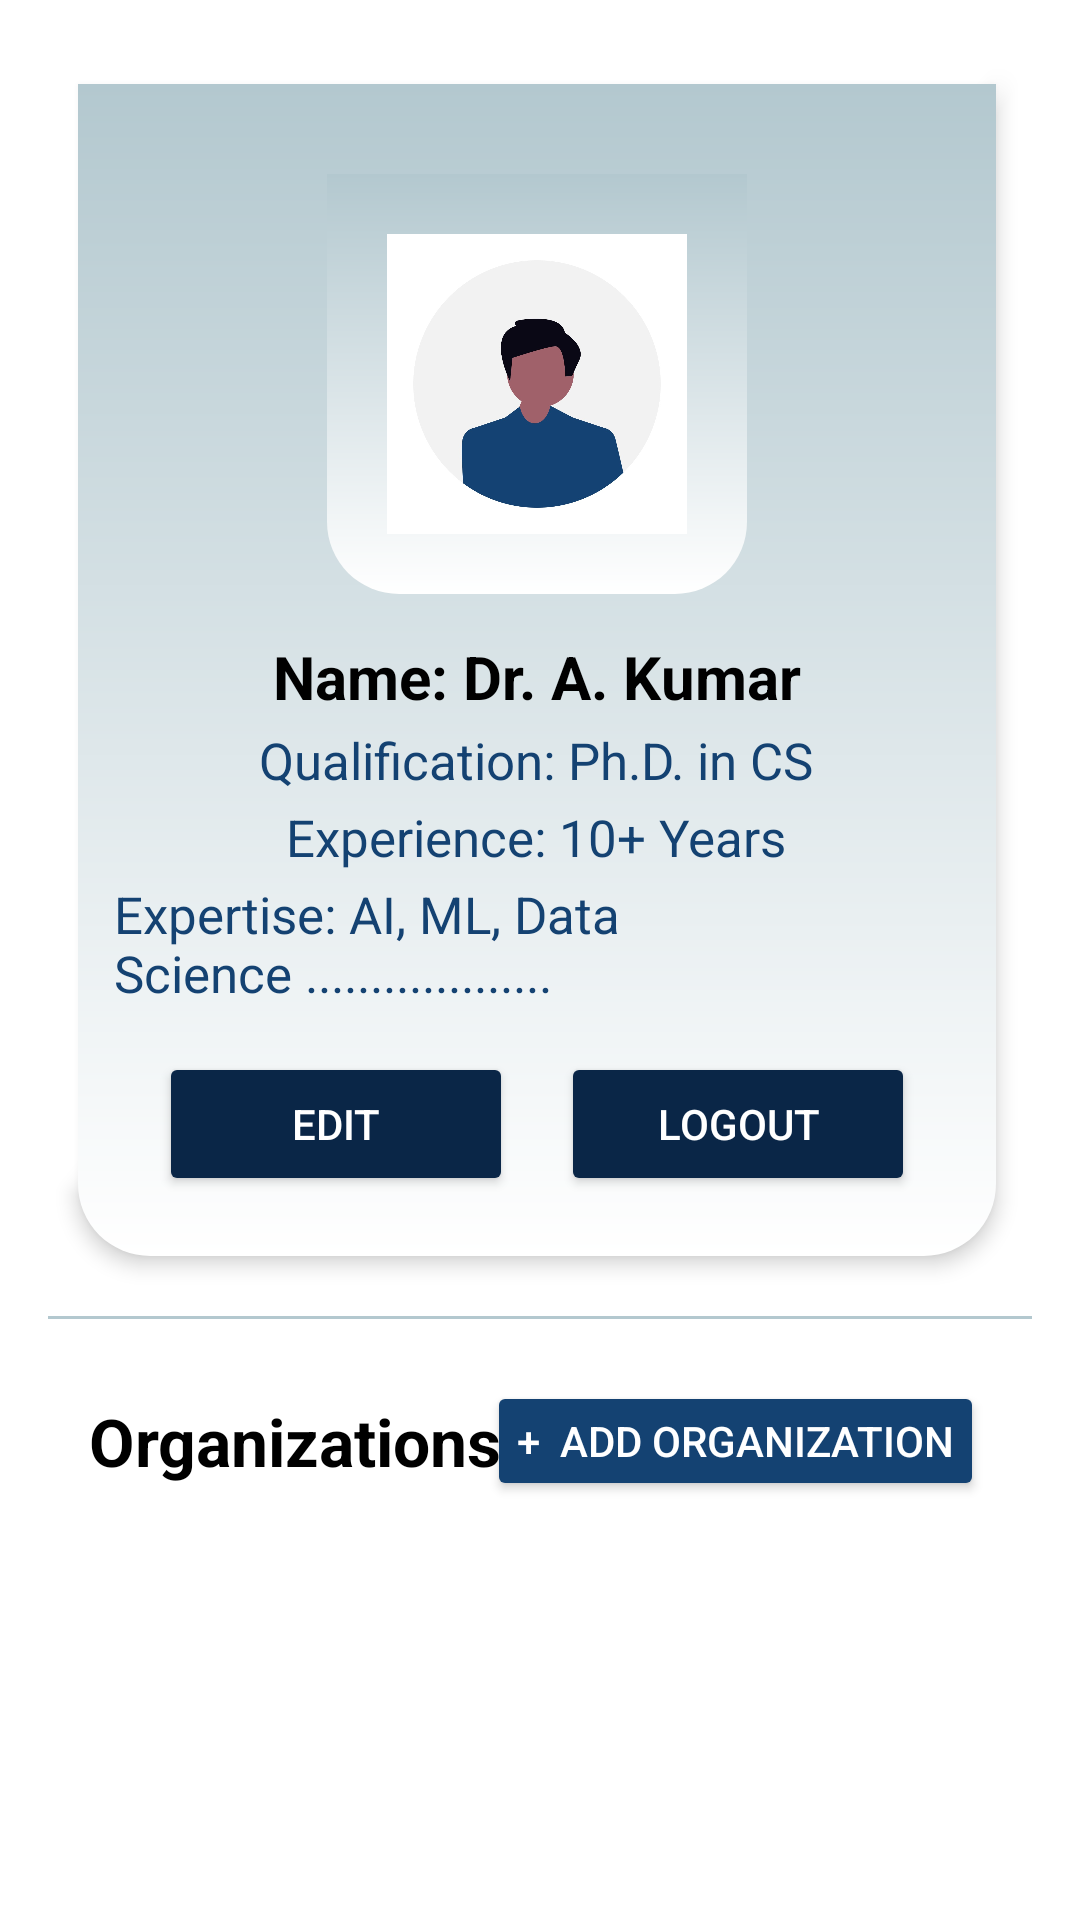

Where to tap for icons on this 1080px×1920px app screen, as (x=x, y=y):
profile: (x=537, y=384)
